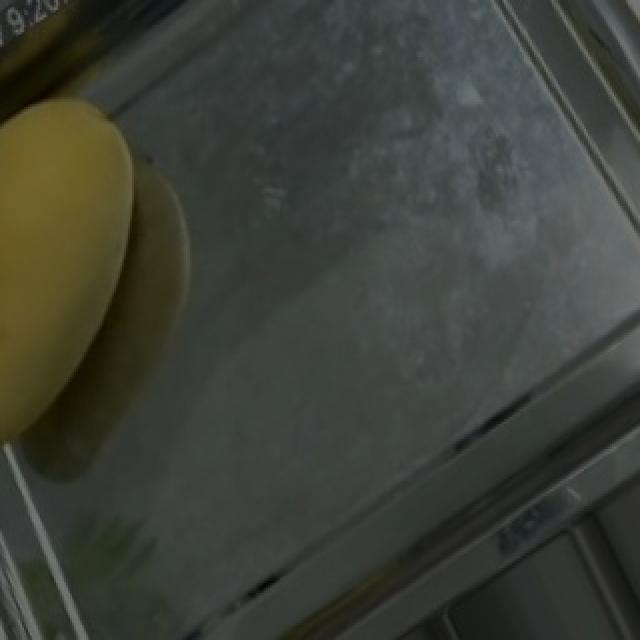fruit: (0, 70, 216, 447)
